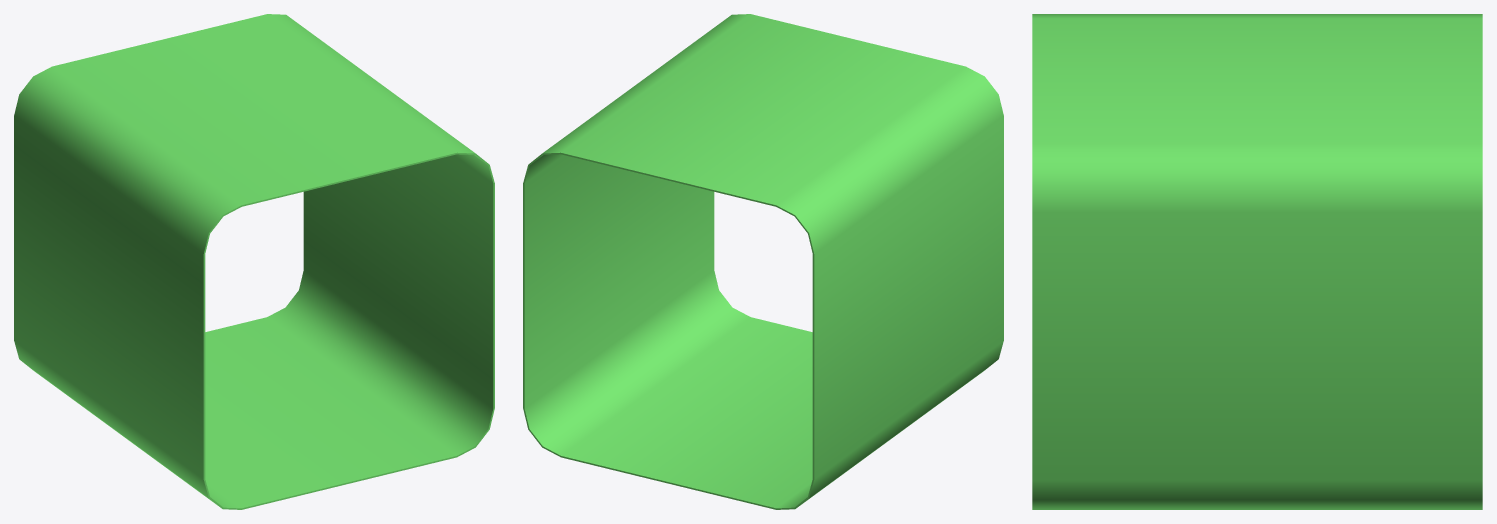
Rendered from cubehollow.fbx.
3 views of the same model, side by side, from view 1: azimuth 30°, elevation 25°; view 2: azimuth 150°, elevation 25°; view 3: azimuth 270°, elevation 25° (orthographic). The views are drawn at different scales.
Visible parts, largest first — view 1: cubehollow; view 2: cubehollow; view 3: cubehollow.
Boxes of the visible parts, <box> form: cubehollow: <box>14,14,494,509</box>; cubehollow: <box>523,14,1003,509</box>; cubehollow: <box>1032,14,1482,509</box>.
Size of the model in its own units: 96.07 by 108 by 96.07.
